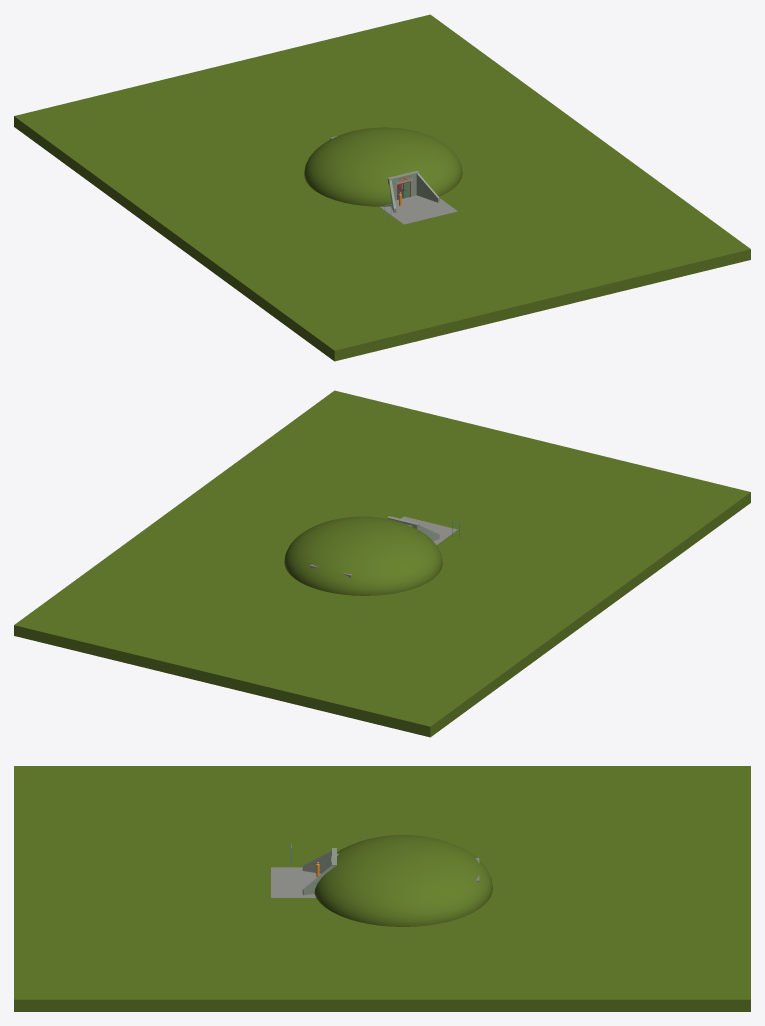
The model's file is ark_two_v001.glb.
The picture shows the model from 3 angles, top to bottom: view 1: azimuth 30°, elevation 25°; view 2: azimuth 150°, elevation 25°; view 3: azimuth 270°, elevation 25°; orthographic projection. The views are drawn at different scales.
Visible parts, largest first — view 1: Ground_Soil, Earth_Mound, Apron_Concrete; view 2: Ground_Soil, Earth_Mound; view 3: Ground_Soil, Earth_Mound, Apron_Concrete.
Part boxes in pixels (x1=…): Ground_Soil: x1=14, y1=14, x2=750, y2=361; Earth_Mound: x1=304, y1=127, x2=462, y2=206; Apron_Concrete: x1=379, y1=195, x2=457, y2=224; Ground_Soil: x1=14, y1=390, x2=750, y2=737; Earth_Mound: x1=284, y1=516, x2=442, y2=595; Ground_Soil: x1=14, y1=766, x2=750, y2=1011; Earth_Mound: x1=314, y1=835, x2=492, y2=926; Apron_Concrete: x1=271, y1=867, x2=320, y2=897.
Size of the model in its own units: 60 by 5.9 by 80.
